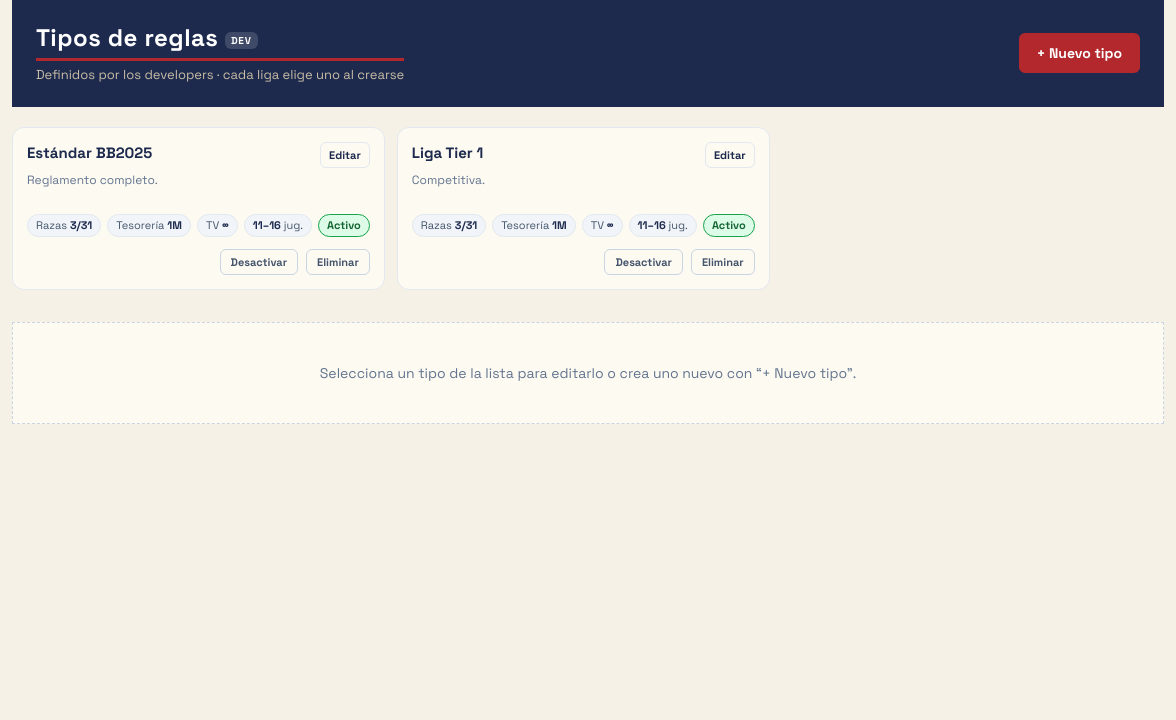
Test: RulesetManager › opens the inline create editor from + Nuevo tipo
Check: the button "Estándar BB2025" is shown, box [27,142,152,164]
Click the button "+ Nuevo tipo": (1079, 53) [1019,33,1140,73]
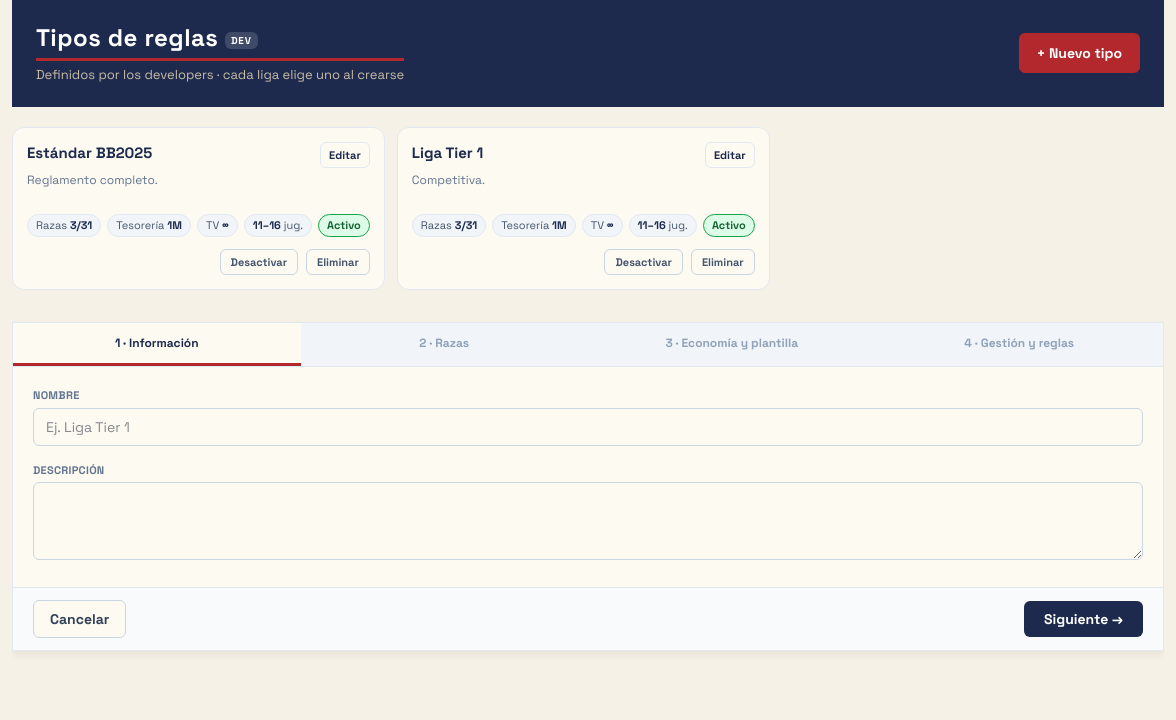
Check: the element named "Configuración del tipo de reglas" is shown, box [13,323,1163,367]
Check: the field labelled "Nombre" is shown, box [33,408,1143,446]
Check: the text "Selecciona un tipo de la lista para editarlo" is gone
